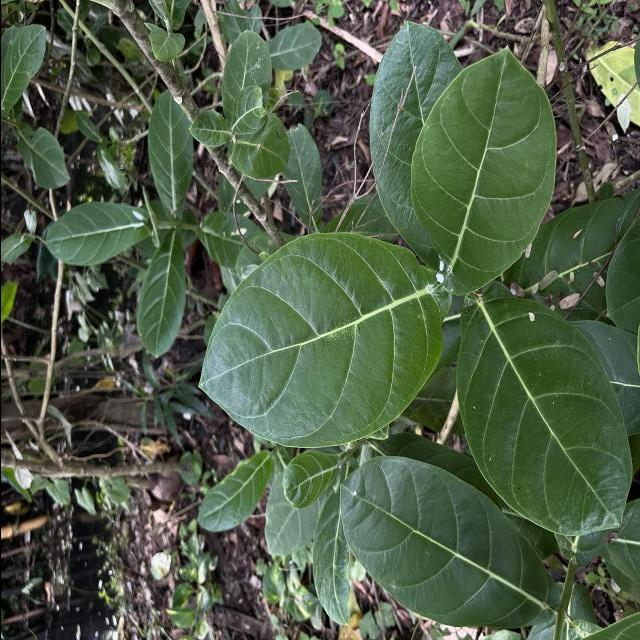Calotropis gigantea: (194, 229, 446, 453), (452, 280, 634, 538), (336, 454, 560, 630), (406, 45, 558, 298), (368, 19, 462, 268), (44, 200, 152, 268), (136, 228, 187, 358), (196, 453, 273, 532), (146, 90, 193, 216), (220, 28, 271, 132), (0, 22, 46, 120), (14, 122, 70, 190)
